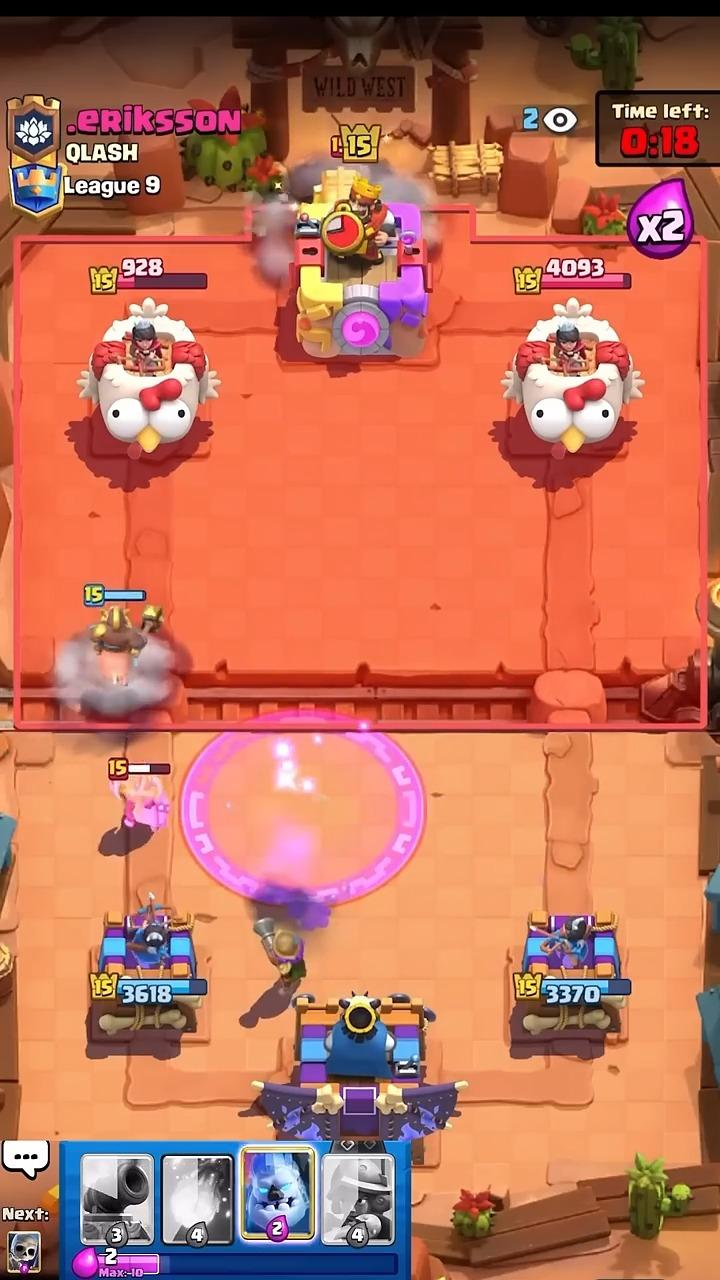elite barbarians: (110, 775, 168, 832)
hog rider: (90, 605, 161, 682)
musketeer: (273, 932, 306, 994)
rage: (180, 712, 425, 906)
sparky: (314, 166, 354, 203)
